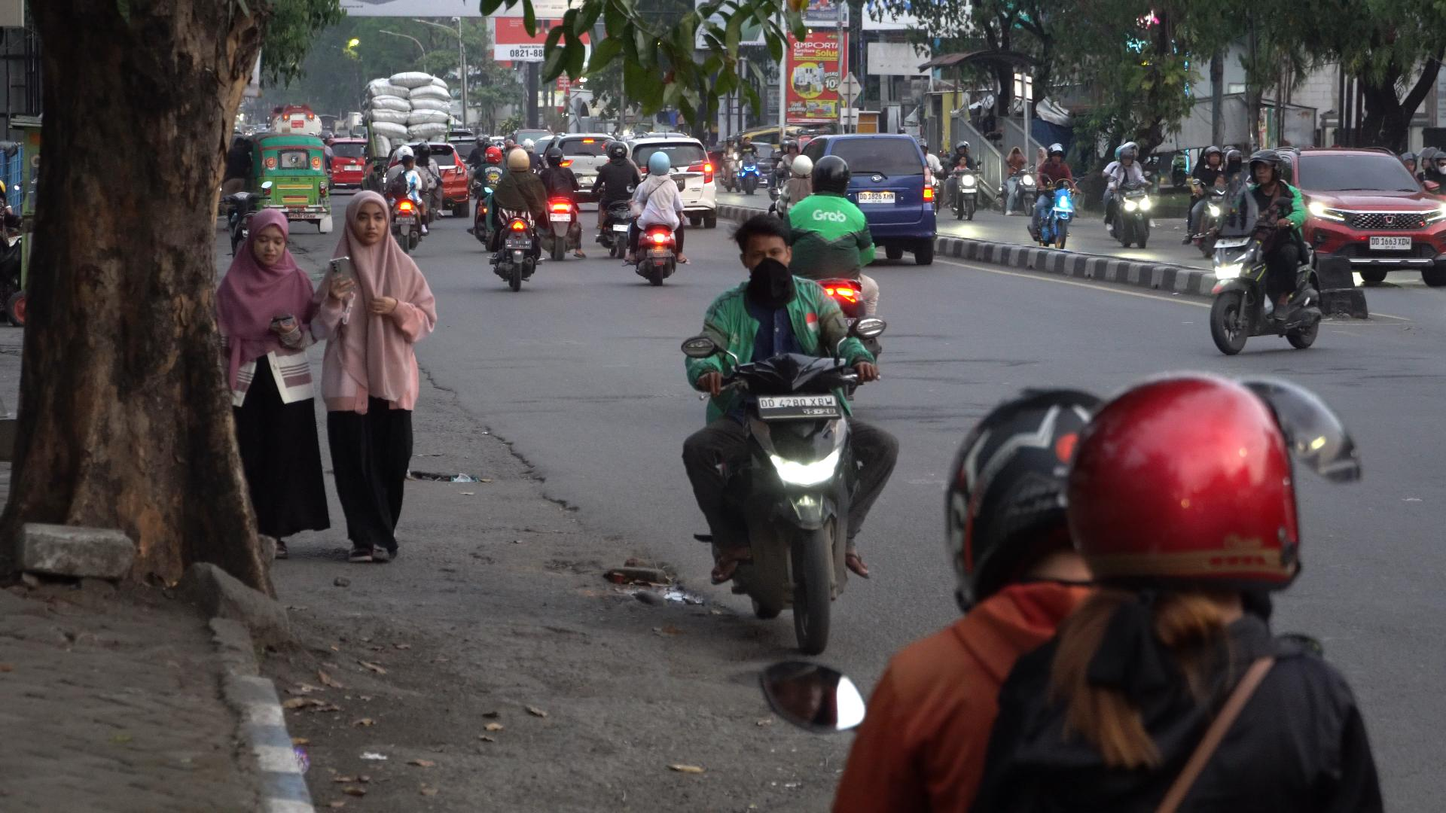number-plate: (758, 395, 838, 421)
